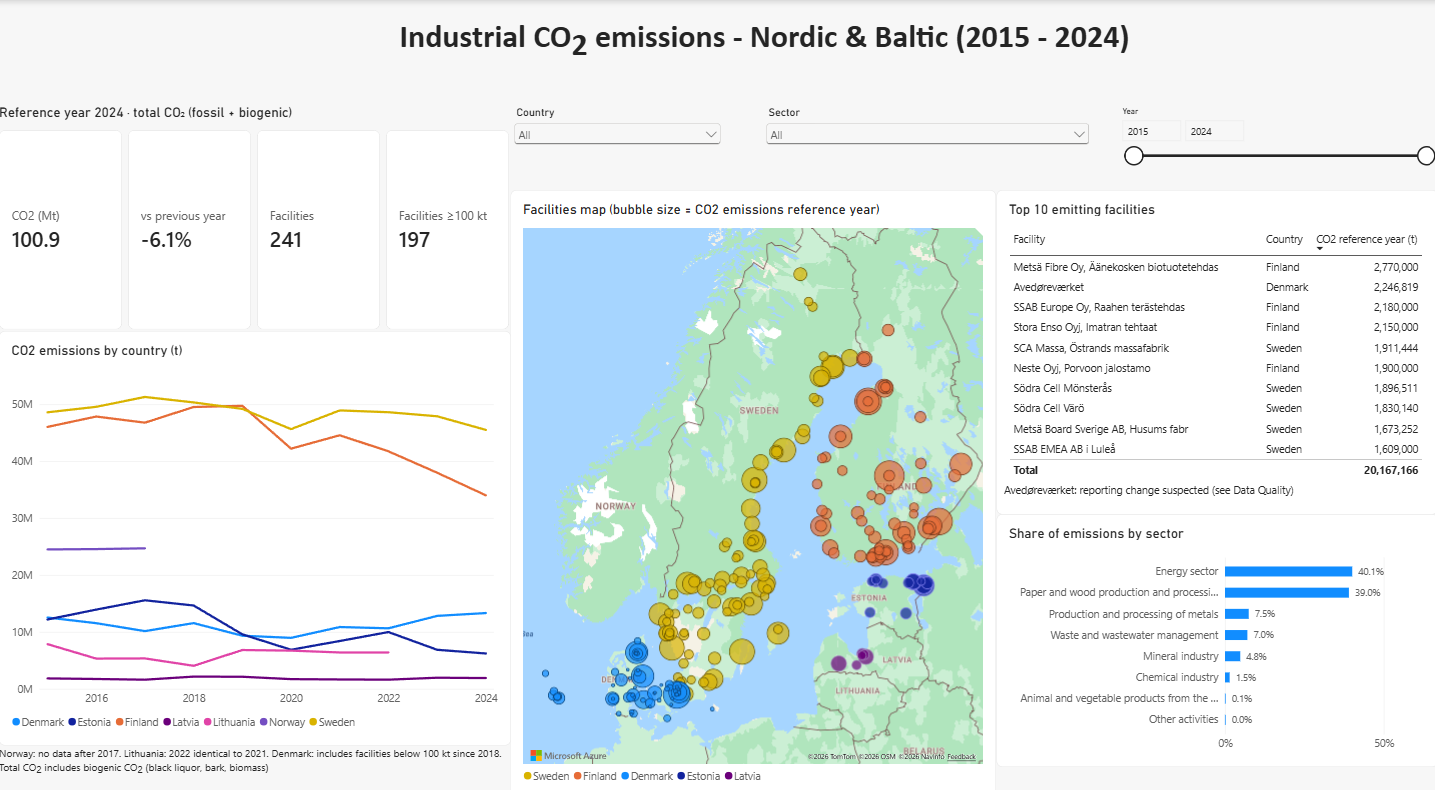

This screenshot's page, from the dashboard's own definition file:
{"tool":"powerbi","page":{"name":"Overview","canvas":[1920,1080],"ordinal":0},"visuals":[{"type":"textbox","box":[112.5,35,1807.5,87.5],"z":0},{"type":"cardVisual","fields":{"Data":["_Measures.Emissions ref year","_Measures.YoY ref year","_Measures.Sites ref year"]},"box":[0,152.5,602.5,302.5],"z":1000},{"type":"lineChart","title":"CO2 emissions by country (t)","fields":{"Category":["Years.Year"],"Series":["Sites.countryName"],"Y":["_Measures.Emissions (t)"]},"box":[0,455,602.5,552.5],"z":2000},{"type":"barChart","title":"Share of emissions by sector","fields":{"Category":["Sites.EPRTR_SectorName"],"Y":["_Measures.Sector Share"]},"box":[1330,700,590,337.5],"z":3000},{"type":"azureMap","title":"Facilities map (bubble size = CO2 emissions)","fields":{"Series":["Sites.countryName"],"Size":["_Measures.Emissions (t)"],"X":["Sites.Lon_map"],"Y":["Sites.Lat_map"]},"box":[602.5,267.5,727.5,812.5],"z":4000},{"type":"tableEx","title":"Top 10 emitting facilities","fields":{"Values":["Sites.facilityName","Sites.countryName","_Measures.Emissions ref year"]},"box":[1330,267.5,590,432.5],"z":5000},{"type":"slicer","fields":{"Values":["Sites.countryName"]},"box":[602.5,155,365,112.5],"z":6000},{"type":"slicer","fields":{"Values":["Sites.EPRTR_SectorName"]},"box":[1017.5,155,440,115],"z":7000},{"type":"slicer","fields":{"Values":["Years.Year"]},"box":[1490,155,430,115],"z":8000},{"type":"textbox","box":[0,1037.5,950,42.5],"z":9000}]}

Visuals, with their boxes in screenshot pixels (x1, y1, x2, y2), scaled from the page's 1920x1080 canvas onto the 1435x790 screenshot:
textbox: detection(84, 26, 1434, 90)
cardVisual - _Measures.Emissions ref year x _Measures.YoY ref year: detection(0, 112, 450, 333)
"CO2 emissions by country (t)" lineChart: detection(0, 333, 450, 737)
"Share of emissions by sector" barChart: detection(994, 512, 1434, 759)
"Facilities map (bubble size = CO2 emissions)" azureMap: detection(450, 196, 994, 789)
"Top 10 emitting facilities" tableEx: detection(994, 196, 1434, 512)
slicer - Sites.countryName: detection(450, 113, 723, 196)
slicer - Sites.EPRTR_SectorName: detection(760, 113, 1089, 198)
slicer - Years.Year: detection(1114, 113, 1434, 198)
textbox: detection(0, 759, 710, 789)
